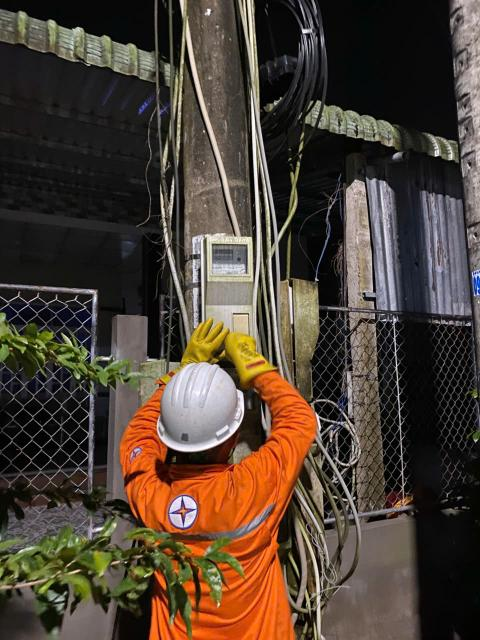gloves: (163, 303, 229, 377), (217, 323, 280, 384)
helmet: (152, 363, 251, 453)
